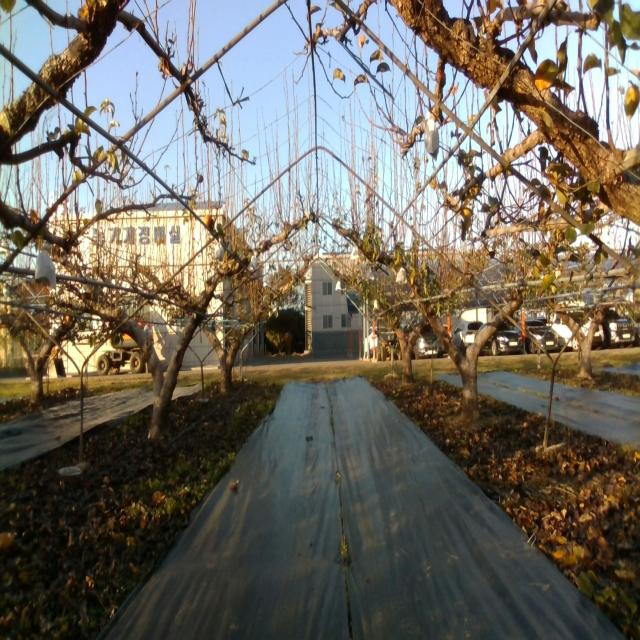pearbags: (34, 244, 56, 293), (424, 112, 440, 163), (214, 238, 224, 262), (396, 267, 407, 285)
